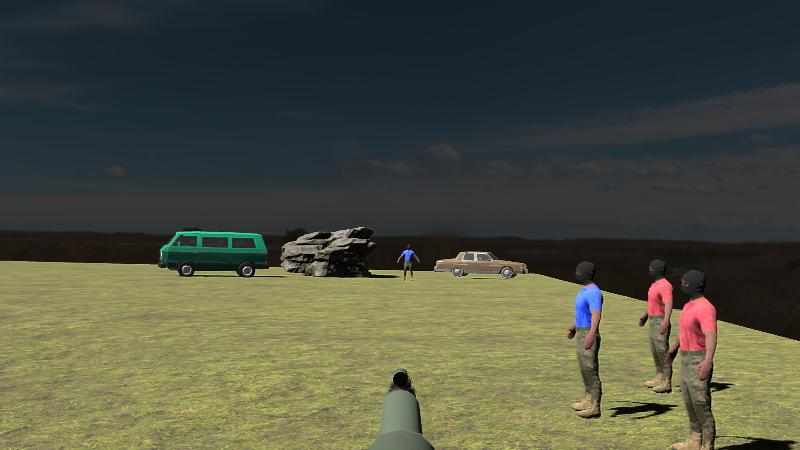Human: (670, 267, 718, 450), (568, 259, 603, 419), (639, 257, 673, 394), (397, 243, 420, 283)
car: (159, 231, 269, 278), (434, 250, 527, 280)
